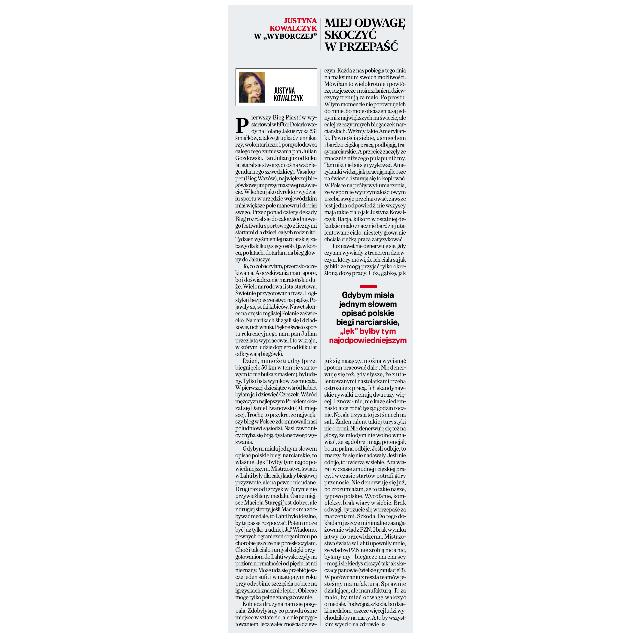author: (272, 85, 306, 103)
body: (231, 112, 319, 630), (323, 357, 409, 629), (324, 66, 411, 278), (325, 282, 411, 346)
title: (323, 16, 409, 54)
